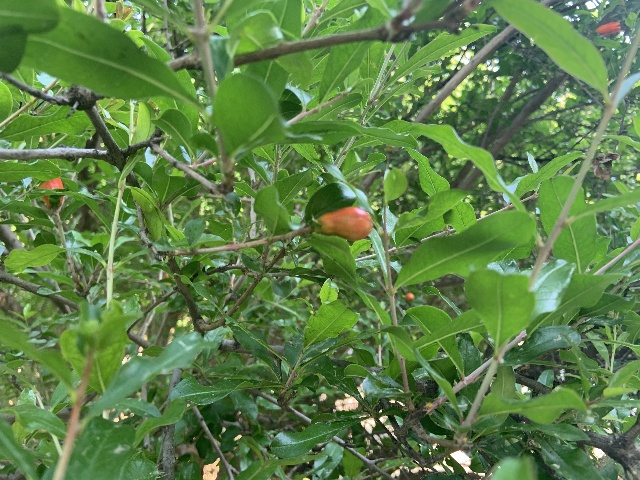bud: (315, 206, 373, 241), (37, 177, 64, 207)
flower: (595, 21, 621, 35)
